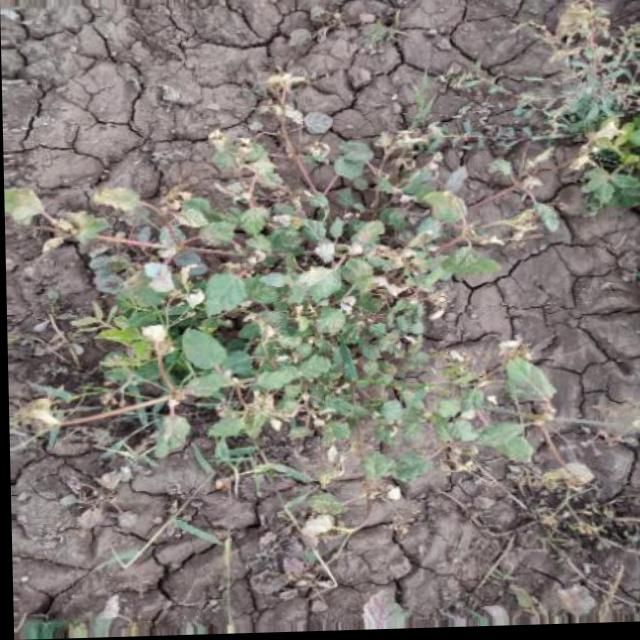weed: (17, 102, 508, 488), (540, 7, 640, 217)
